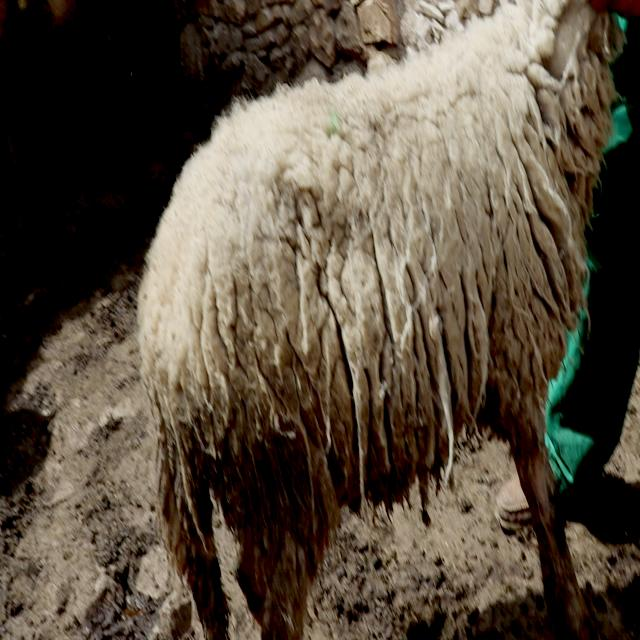Score_2: (137, 0, 624, 639)
